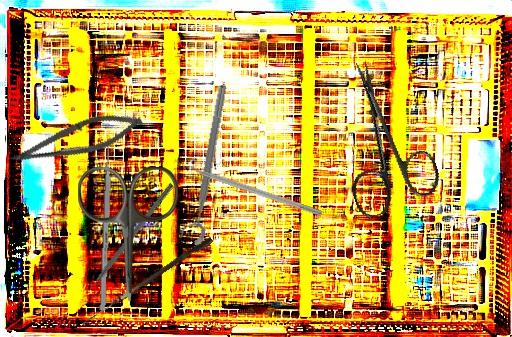Chopper: (77, 178, 175, 297), (175, 153, 326, 217)
Fixation Ring: (178, 82, 231, 247)
Hook Surgical: (81, 234, 214, 331)
Iris Scissors: (316, 49, 446, 221), (78, 167, 178, 301)
Micro Scissor: (6, 100, 147, 181)
Pusher: (99, 128, 113, 311)
